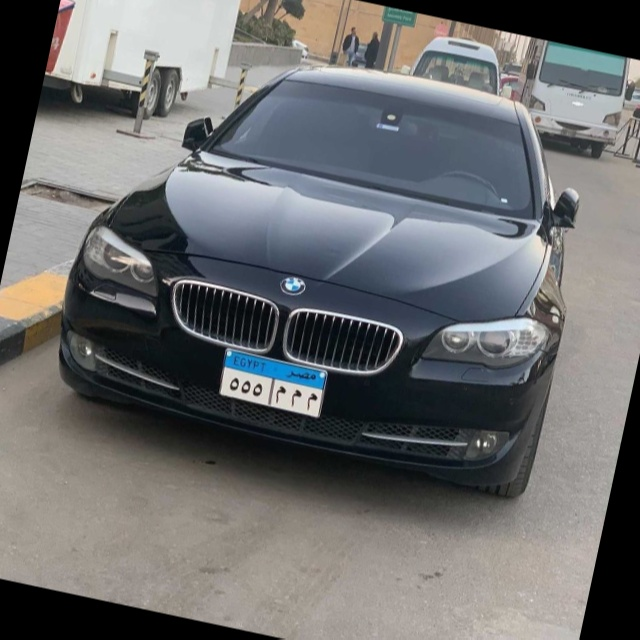License Plate: (215, 347, 330, 420)
